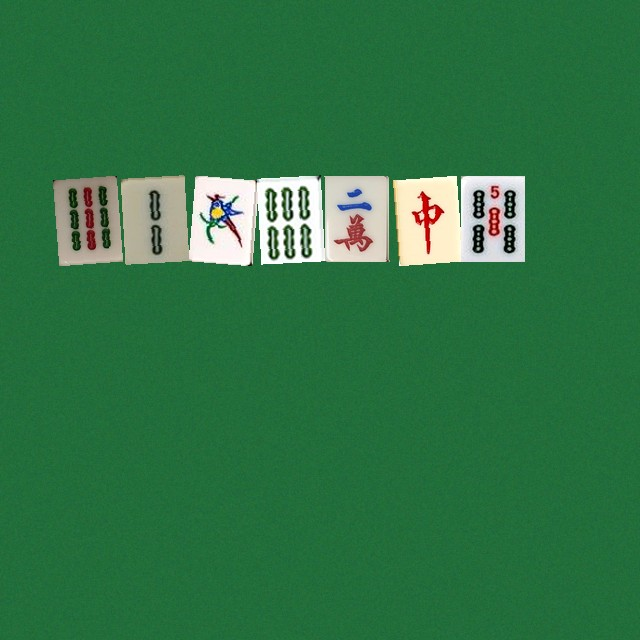tile: (52, 175, 116, 261), (120, 175, 184, 261), (188, 175, 252, 261), (256, 175, 320, 261), (324, 175, 388, 261), (392, 175, 456, 261), (460, 175, 524, 261)
